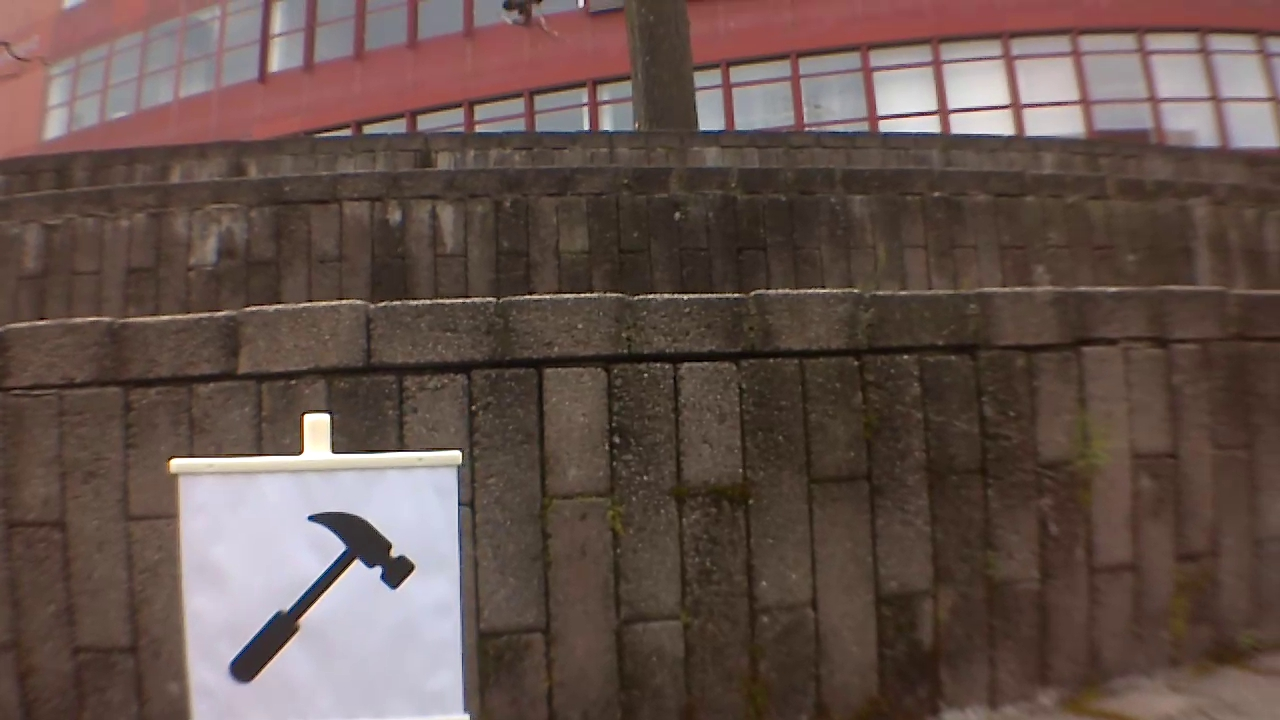hammer: (224, 505, 416, 687)
